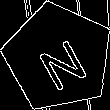N_NW: (28, 25, 89, 89)
